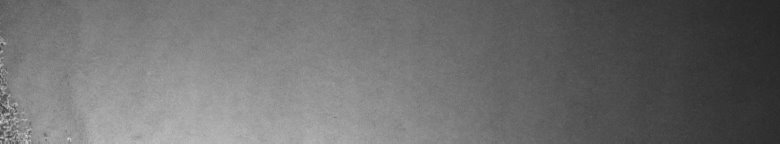hc: (4, 42, 53, 136)
